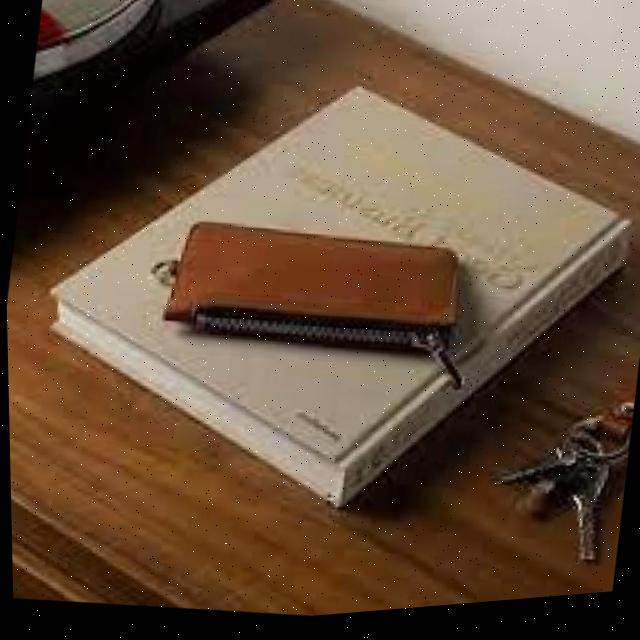cuzdan: (143, 201, 484, 399)
